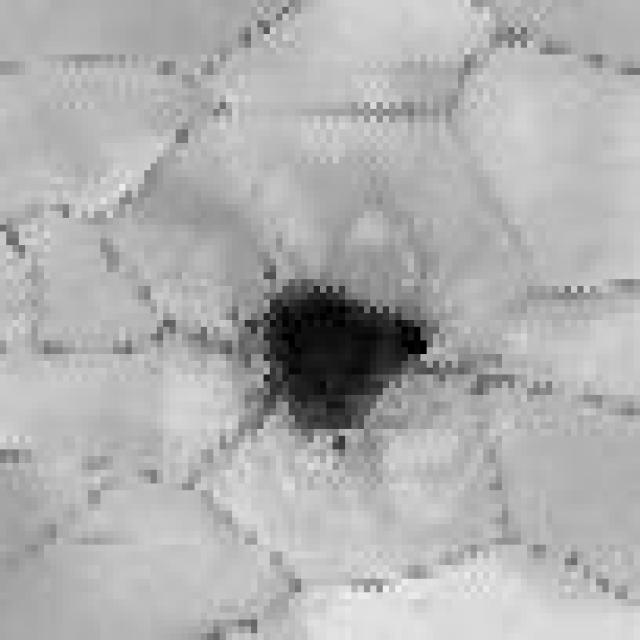good_void: (236, 262, 441, 449)
